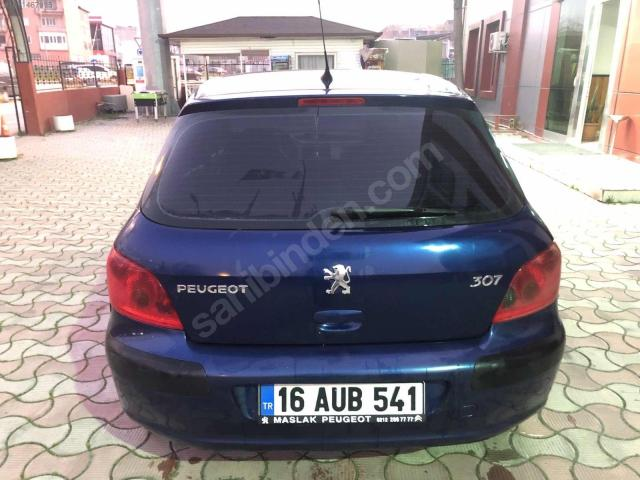plaka: (259, 382, 425, 423)
